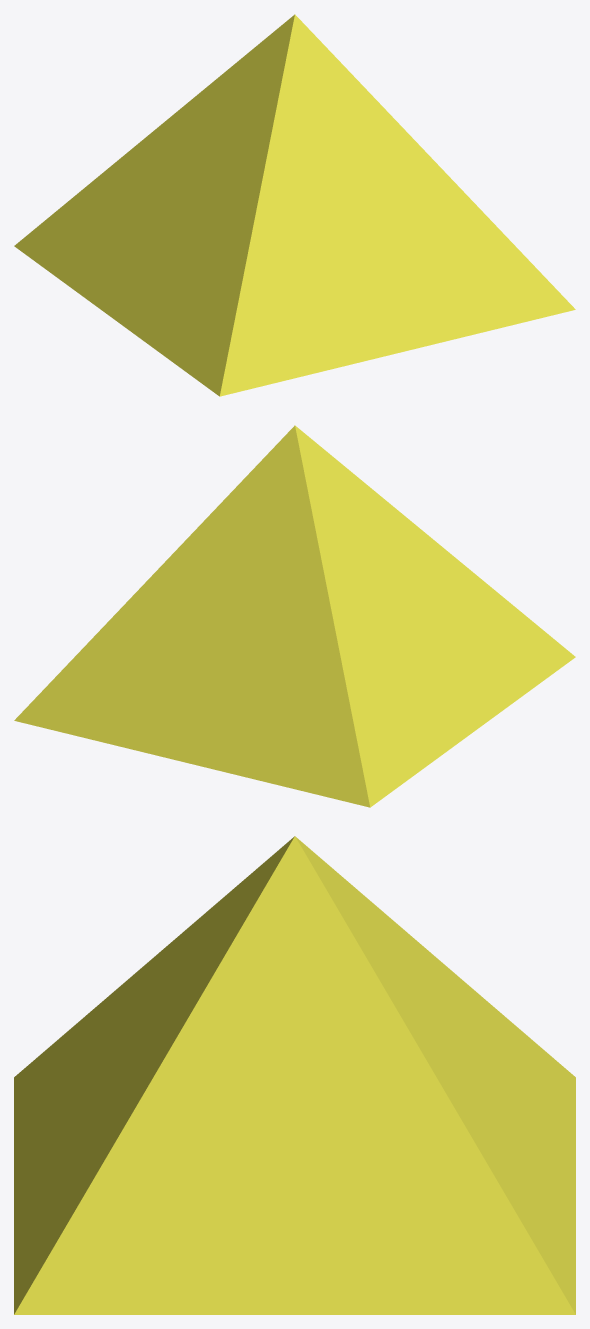
Rendered from placeholder_pyramid.glb.
The picture shows the model from 3 angles, top to bottom: view 1: azimuth 30°, elevation 25°; view 2: azimuth 150°, elevation 25°; view 3: azimuth 270°, elevation 25°; orthographic projection. The views are drawn at different scales.
Parts seen in each view (by area): view 1: Cone; view 2: Cone; view 3: Cone.
Part boxes in pixels (x1=…): Cone: x1=14, y1=14, x2=575, y2=396; Cone: x1=14, y1=425, x2=575, y2=807; Cone: x1=14, y1=836, x2=575, y2=1314.
Size of the model in its own units: 1.41 by 1 by 1.41.
